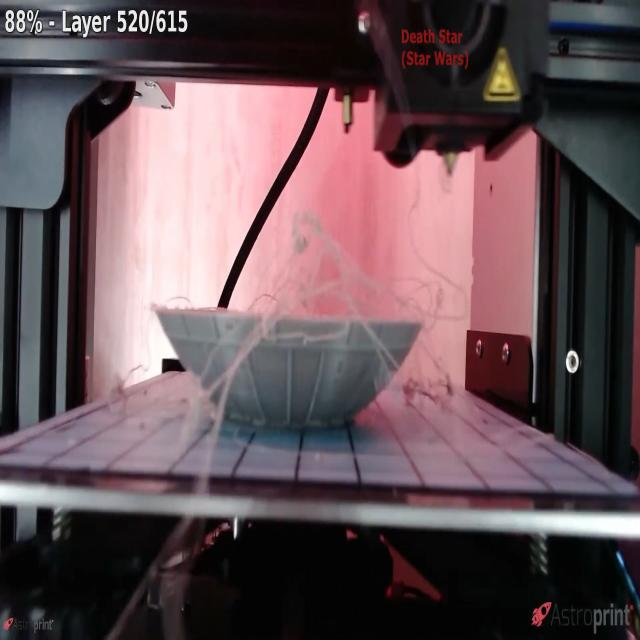spaghetti: (143, 200, 471, 455)
